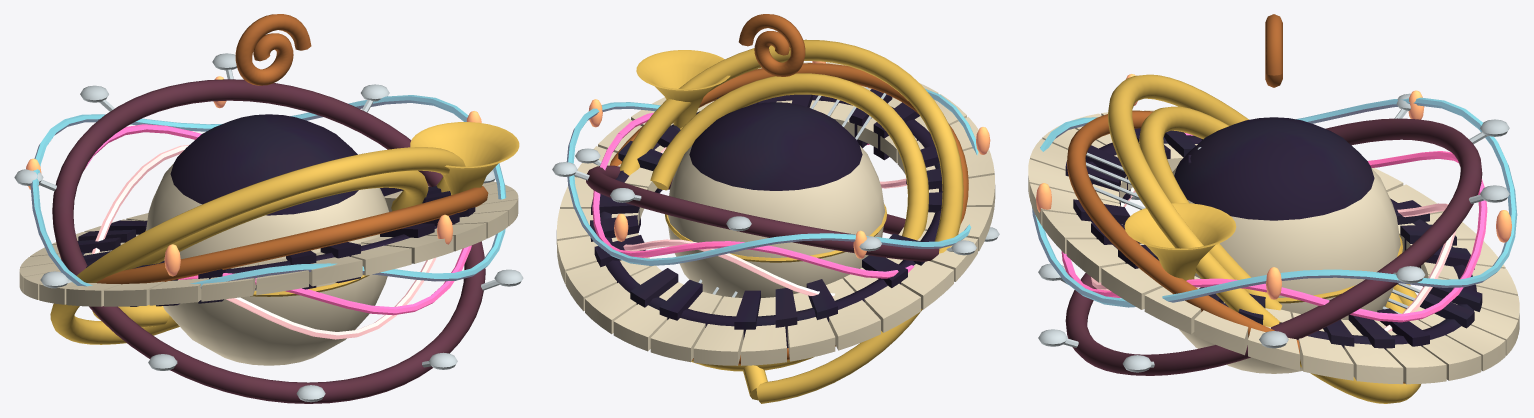
File: planetas-juego.glb
3 renders of one model, left to right at view 1: azimuth 30°, elevation 25°; view 2: azimuth 150°, elevation 25°; view 3: azimuth 270°, elevation 25°, orthographic. The views are drawn at different scales.
Visible parts, largest first — view 1: piano_core, fagot_ring, corno_ring, piano_ring, coro_ring, cello_ring; view 2: piano_ring, piano_core, corno_ring, coro_ring, fagot_ring, cello_ring; view 3: piano_ring, piano_core, corno_ring, fagot_ring, coro_ring, cello_ring.
Part boxes in pixels (x1,y1,x2,y2): piano_core: (145, 114, 388, 365); fagot_ring: (14, 53, 523, 403); corno_ring: (50, 122, 519, 344); piano_ring: (19, 181, 518, 306); coro_ring: (26, 76, 506, 339); cello_ring: (96, 14, 488, 284); piano_ring: (556, 62, 995, 365); piano_core: (665, 102, 886, 298); corno_ring: (619, 39, 963, 403); coro_ring: (566, 61, 990, 296); fagot_ring: (552, 148, 999, 261); cello_ring: (610, 14, 968, 364); piano_ring: (1028, 110, 1519, 384); piano_core: (1172, 117, 1402, 373); corno_ring: (1108, 74, 1420, 403); fagot_ring: (1038, 93, 1509, 375); coro_ring: (1032, 74, 1517, 331); cello_ring: (1067, 14, 1420, 383).
Size of the model in its own units: 4.11 by 3.19 by 3.78.
